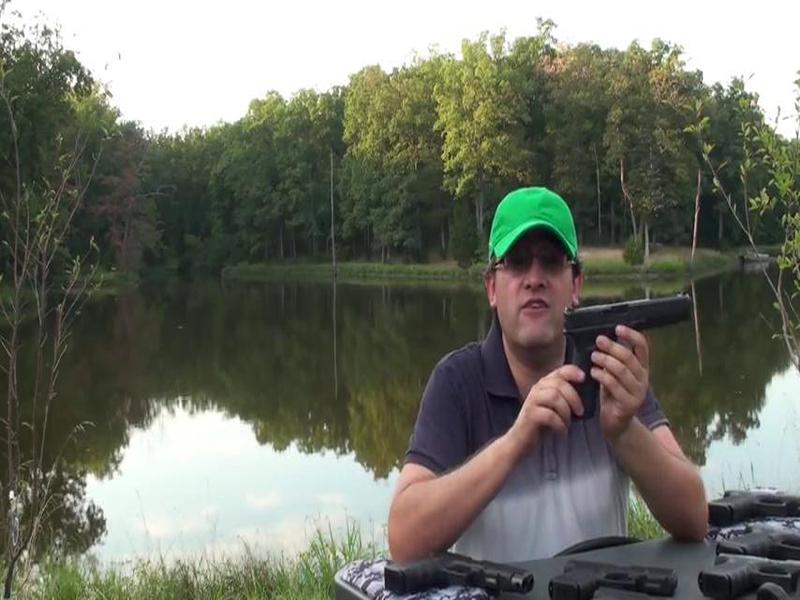Pistola: (550, 277, 708, 423)
